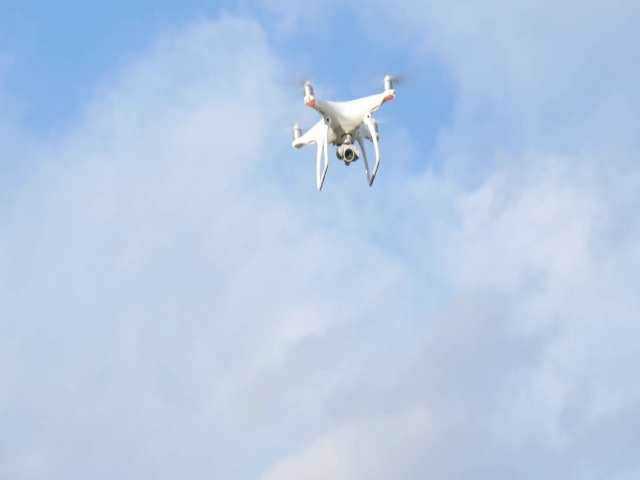drone: (274, 66, 424, 198)
